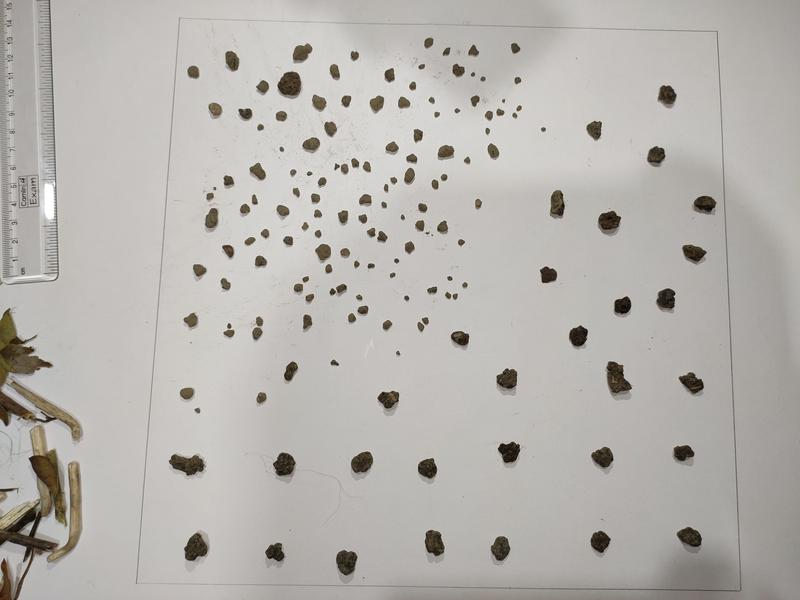Moti Mitti: (604, 360, 633, 393), (275, 71, 303, 99), (169, 454, 205, 475), (184, 534, 209, 562), (336, 549, 359, 576), (676, 526, 703, 549), (678, 372, 705, 394), (290, 41, 315, 64), (490, 536, 511, 562), (498, 440, 520, 464), (426, 529, 445, 556), (273, 453, 295, 476), (591, 446, 614, 468), (568, 325, 590, 348), (655, 287, 677, 310), (349, 452, 373, 473), (598, 210, 622, 231), (682, 244, 708, 263), (417, 458, 439, 480), (590, 531, 611, 554), (550, 189, 565, 220), (496, 367, 518, 388), (377, 391, 400, 410), (658, 85, 678, 106), (221, 49, 240, 71), (264, 543, 286, 562), (694, 195, 716, 212), (248, 162, 267, 181), (674, 444, 695, 461), (539, 266, 558, 284), (450, 330, 470, 347), (586, 121, 603, 141), (310, 94, 328, 112), (647, 146, 665, 164), (614, 296, 632, 314), (381, 66, 400, 83), (302, 137, 321, 154), (369, 95, 385, 115), (204, 207, 219, 228), (314, 244, 332, 261), (283, 361, 298, 381), (237, 105, 254, 122), (207, 101, 223, 118), (186, 63, 201, 80), (328, 62, 341, 81), (183, 312, 198, 328), (486, 143, 500, 160), (324, 121, 338, 137), (256, 78, 269, 95), (404, 168, 416, 186), (358, 193, 373, 207), (221, 244, 235, 259), (438, 145, 454, 158), (192, 264, 207, 277), (437, 220, 450, 235), (398, 94, 410, 110), (385, 141, 399, 154), (467, 43, 480, 57), (469, 94, 482, 108), (403, 241, 416, 255), (347, 49, 362, 61), (337, 210, 349, 225), (275, 205, 290, 217), (413, 128, 424, 144), (340, 95, 353, 108), (405, 152, 418, 165), (290, 186, 303, 199), (255, 255, 268, 268), (452, 63, 465, 76), (222, 175, 235, 187), (251, 328, 264, 340), (180, 388, 194, 399), (302, 315, 312, 330), (316, 175, 328, 187), (422, 36, 434, 48), (275, 111, 288, 122), (238, 204, 251, 215), (220, 278, 231, 291), (362, 159, 372, 173), (283, 235, 294, 247), (510, 43, 522, 54), (382, 320, 393, 332), (244, 236, 257, 246), (257, 392, 267, 405), (259, 228, 270, 239), (366, 227, 377, 238), (377, 231, 388, 242), (340, 247, 351, 258), (485, 111, 496, 122), (310, 193, 322, 203), (336, 284, 348, 294), (305, 293, 317, 303), (473, 199, 485, 209), (416, 320, 425, 333), (223, 330, 237, 338), (312, 209, 323, 219), (357, 214, 368, 224), (250, 193, 259, 205), (357, 305, 369, 314), (426, 286, 438, 295), (431, 178, 439, 191), (293, 283, 303, 293), (324, 263, 334, 273), (351, 158, 360, 169), (418, 202, 427, 213), (348, 312, 356, 324), (300, 222, 310, 231), (314, 229, 323, 239), (255, 317, 264, 327), (441, 47, 451, 56), (415, 220, 424, 230), (205, 193, 216, 201), (457, 239, 466, 248), (367, 262, 377, 270), (417, 63, 427, 71), (342, 163, 349, 174), (289, 169, 298, 177), (390, 176, 398, 185), (353, 260, 361, 269), (328, 288, 337, 296), (453, 107, 462, 115), (439, 173, 448, 181), (421, 317, 430, 325), (409, 81, 416, 91), (462, 157, 472, 164), (330, 360, 340, 367), (257, 123, 265, 131), (278, 145, 286, 153), (380, 201, 388, 209), (514, 77, 522, 85), (383, 184, 390, 193), (510, 112, 519, 119), (495, 109, 505, 115), (485, 128, 492, 136), (389, 272, 397, 279), (403, 295, 411, 302), (334, 163, 340, 172), (453, 292, 459, 301), (479, 75, 486, 82), (515, 104, 522, 111), (429, 97, 436, 104), (446, 274, 453, 281), (400, 213, 406, 221), (541, 125, 547, 133), (355, 295, 363, 301), (306, 171, 313, 177), (434, 112, 441, 118), (462, 282, 469, 288), (445, 292, 451, 299), (226, 322, 232, 328), (303, 276, 309, 282), (393, 258, 399, 264), (194, 408, 201, 413), (470, 71, 475, 77), (501, 99, 506, 104), (212, 187, 218, 191), (396, 350, 400, 356), (426, 231, 430, 235), (431, 234, 434, 237)
